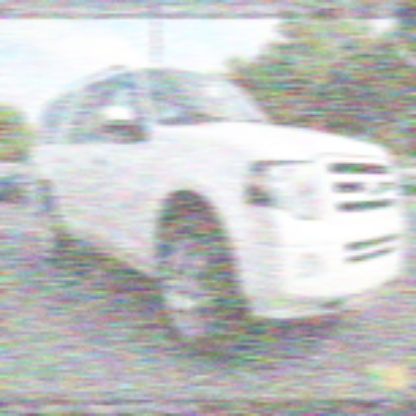Vehicle: (28, 63, 402, 358)
